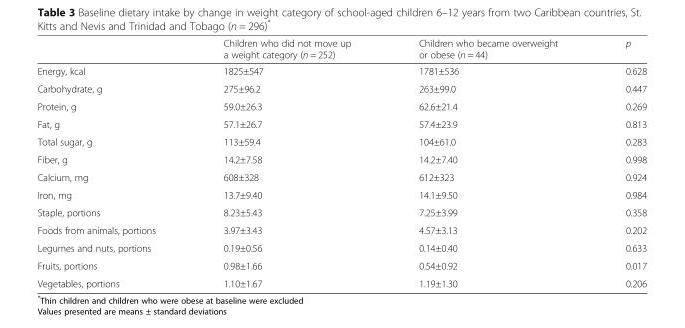table: (36, 37, 646, 288)
table column: (384, 37, 591, 288), (188, 37, 384, 288), (36, 37, 188, 288), (591, 37, 646, 288)
table column header: (36, 37, 646, 62)
table row: (36, 37, 646, 62), (36, 79, 646, 97), (36, 114, 646, 132), (36, 132, 646, 150), (36, 150, 646, 168), (36, 185, 646, 203), (36, 203, 646, 221), (36, 238, 646, 256), (36, 256, 646, 274), (36, 62, 646, 79), (36, 97, 646, 114), (36, 168, 646, 185), (36, 221, 646, 238), (36, 274, 646, 288)
